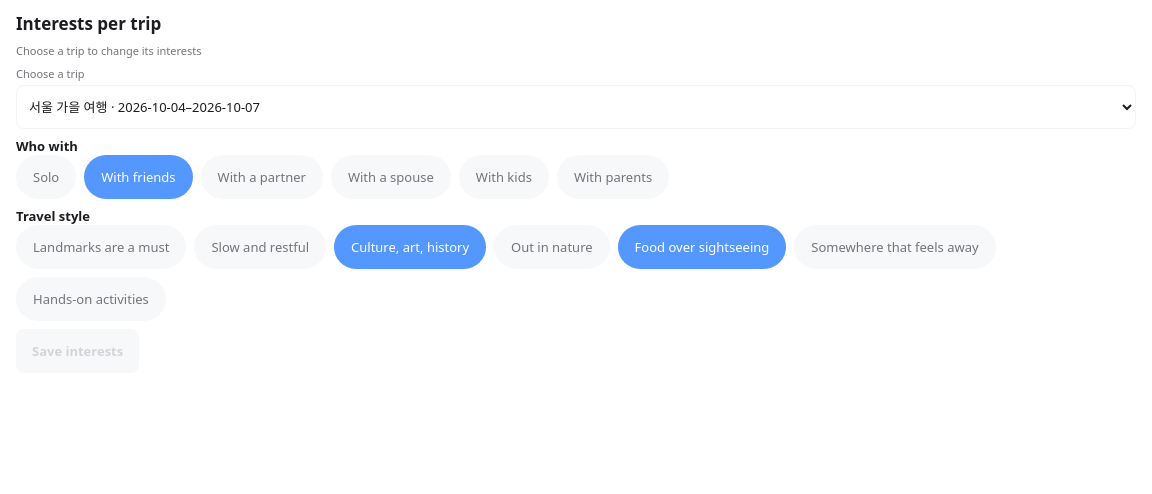
Test: FE-106-T1 replacing the set uses optimistic concurrency › keeps the user’s selection when the trip changed underneath
Step 1. Click the button "Out in nature" → (552, 247), box top-left (494, 225), bottom-right (610, 269)
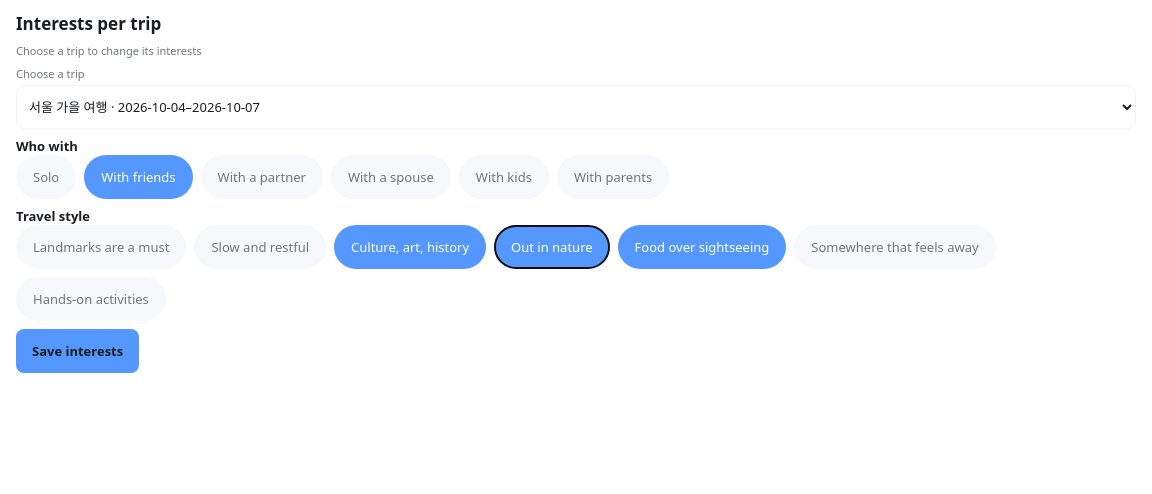
Step 2. Click the button "Save interests" → (78, 351), box top-left (16, 329), bottom-right (139, 373)
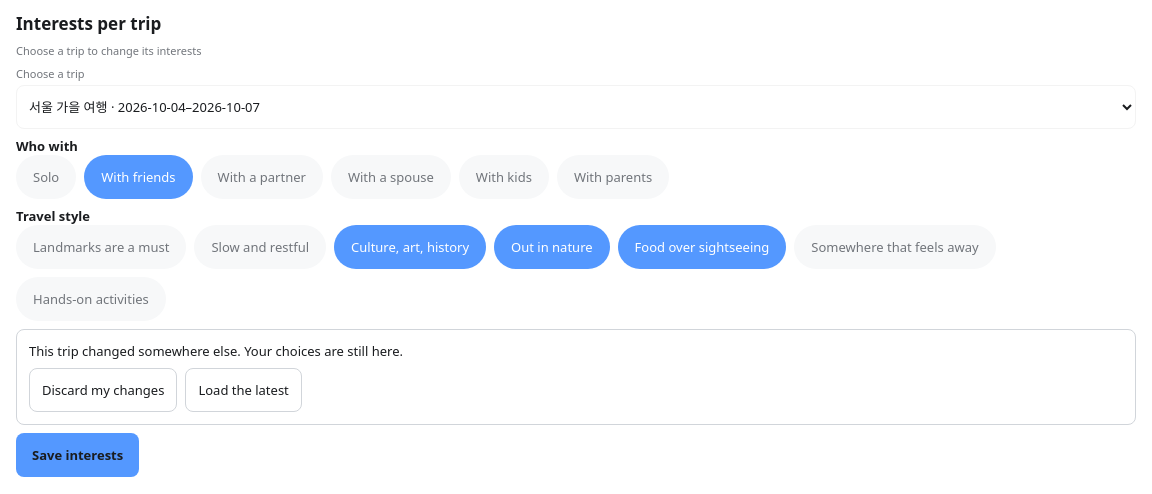
Result: the message shows "This trip changed somewhere else. Your choices are still here." at top-left (29, 342), bottom-right (403, 360)
